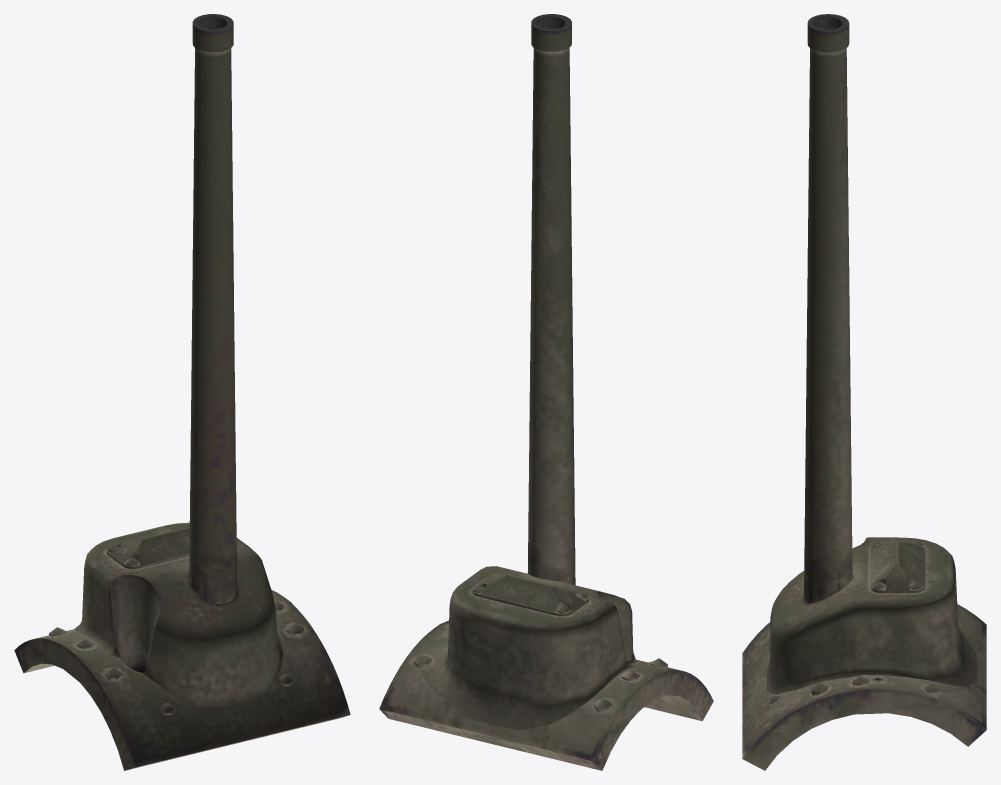
The model's file is Gun_01.glb.
The picture shows the model from 3 angles, left to right: view 1: azimuth 30°, elevation 25°; view 2: azimuth 150°, elevation 25°; view 3: azimuth 270°, elevation 25°; orthographic projection.
Parts seen in each view (by area): view 1: set_0_group_0; view 2: set_0_group_0; view 3: set_0_group_0.
Part boxes in pixels (x1,y1,x2,y2): set_0_group_0: (14,14,350,770); set_0_group_0: (379,14,713,770); set_0_group_0: (742,14,986,770).
Bounding box in the file's own units: 0.6619 × 2.05 × 0.6453.
1 material, 1 textured.
